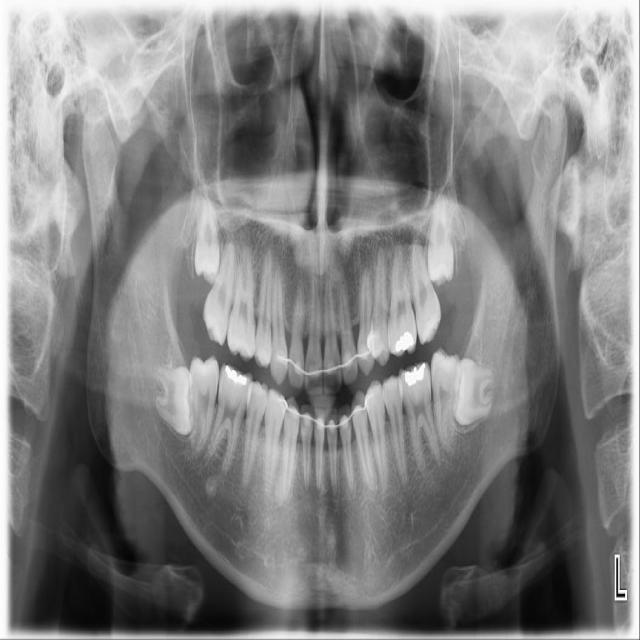3M ESPE Implant: (194, 183, 221, 283)
52: (213, 362, 255, 422), (396, 359, 437, 415), (388, 308, 417, 358)
73: (612, 583, 618, 598)
BioHorizons Implant: (404, 227, 445, 345)
BioLife Implant: (426, 187, 458, 287)
Biomet 3i Implant: (451, 356, 497, 426)
Blue Sky Bio Implant: (428, 347, 461, 453)
Caries: (196, 237, 245, 347)
Implant: (188, 353, 220, 456)
Keystone Dental Implant: (153, 364, 195, 436)
